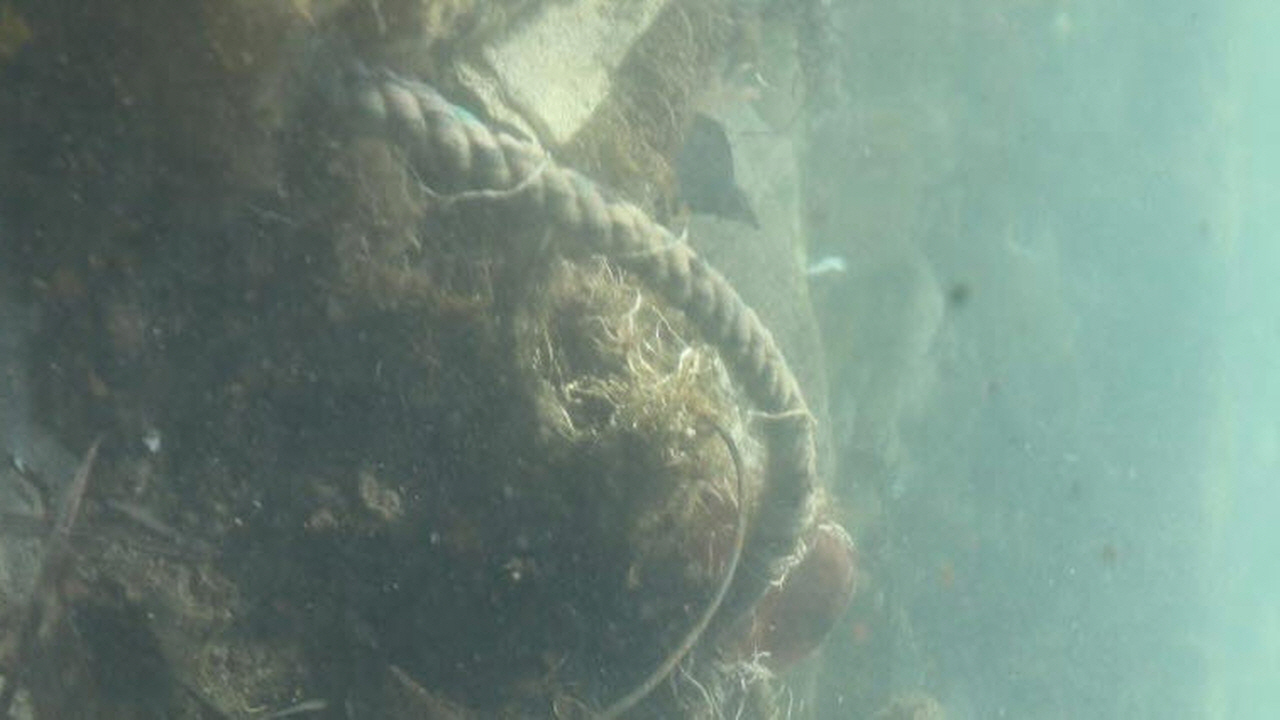rope: (327, 70, 819, 636)
